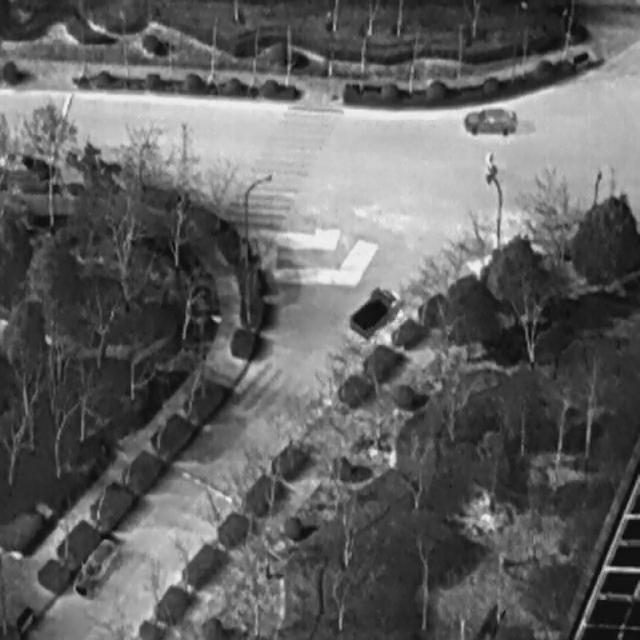Car: (341, 272, 405, 348), (69, 530, 123, 608), (462, 106, 516, 136)
